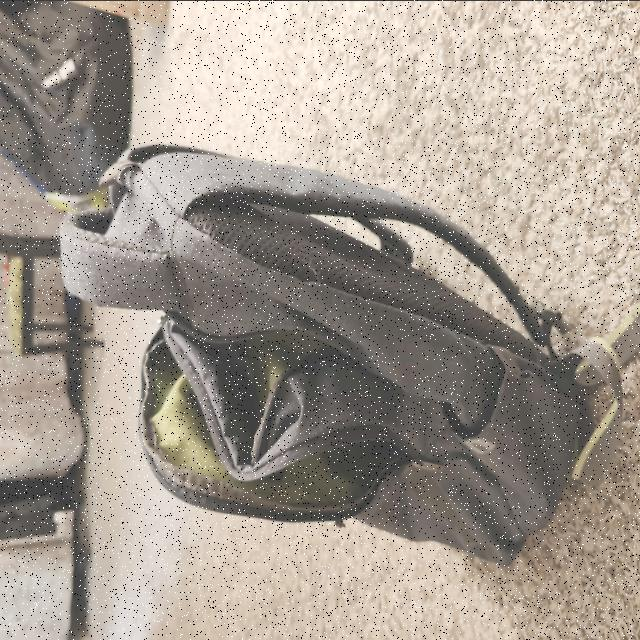bag: (64, 160, 564, 592)
